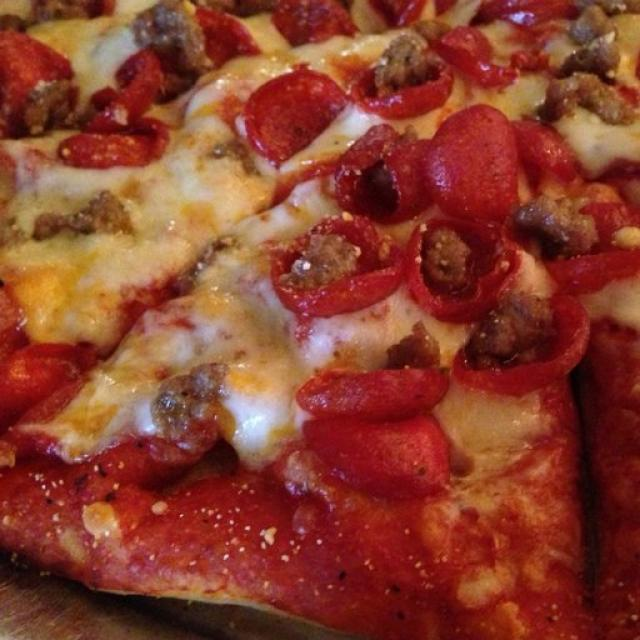Pepperoni: (521, 118, 640, 289), (309, 412, 457, 500), (282, 219, 412, 311), (463, 297, 589, 387), (435, 100, 513, 238), (76, 52, 164, 172), (248, 68, 346, 162), (417, 218, 510, 316), (299, 365, 451, 417), (338, 128, 412, 213), (0, 28, 67, 91), (353, 80, 463, 117), (444, 36, 518, 86), (277, 0, 356, 42), (200, 12, 259, 61), (471, 3, 578, 23)
Pizza: (0, 0, 640, 640)
